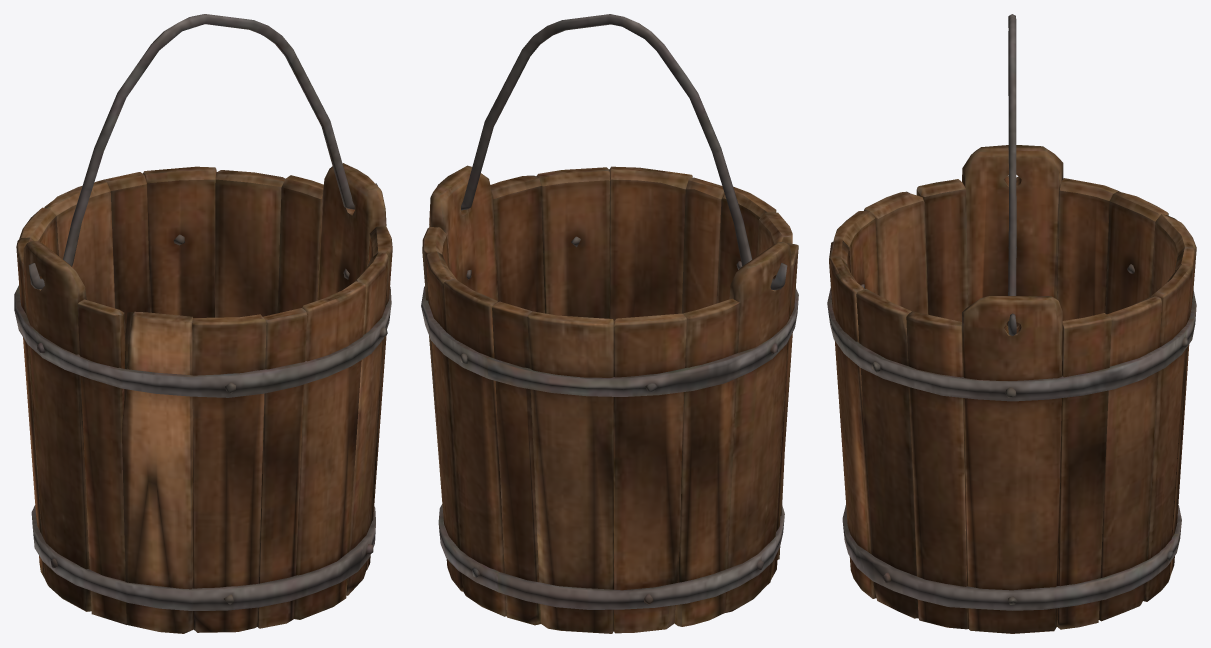
Rendered from wooden_bucket_01.glb.
The picture shows the model from 3 angles, left to right: view 1: azimuth 30°, elevation 25°; view 2: azimuth 150°, elevation 25°; view 3: azimuth 270°, elevation 25°; orthographic projection.
Visible parts, largest first — view 1: wooden_bucket_01, wooden_bucket_01_handle; view 2: wooden_bucket_01, wooden_bucket_01_handle; view 3: wooden_bucket_01, wooden_bucket_01_handle.
Boxes of the visible parts, x1,y1,x2,y2 form: wooden_bucket_01: [14, 163, 392, 633]; wooden_bucket_01_handle: [28, 14, 377, 289]; wooden_bucket_01: [421, 165, 798, 633]; wooden_bucket_01_handle: [437, 14, 787, 290]; wooden_bucket_01: [827, 145, 1196, 633]; wooden_bucket_01_handle: [1008, 14, 1016, 335].
Bounding box in the file's own units: 0.3663 × 0.5499 × 0.3407.
1 material, 1 textured.
